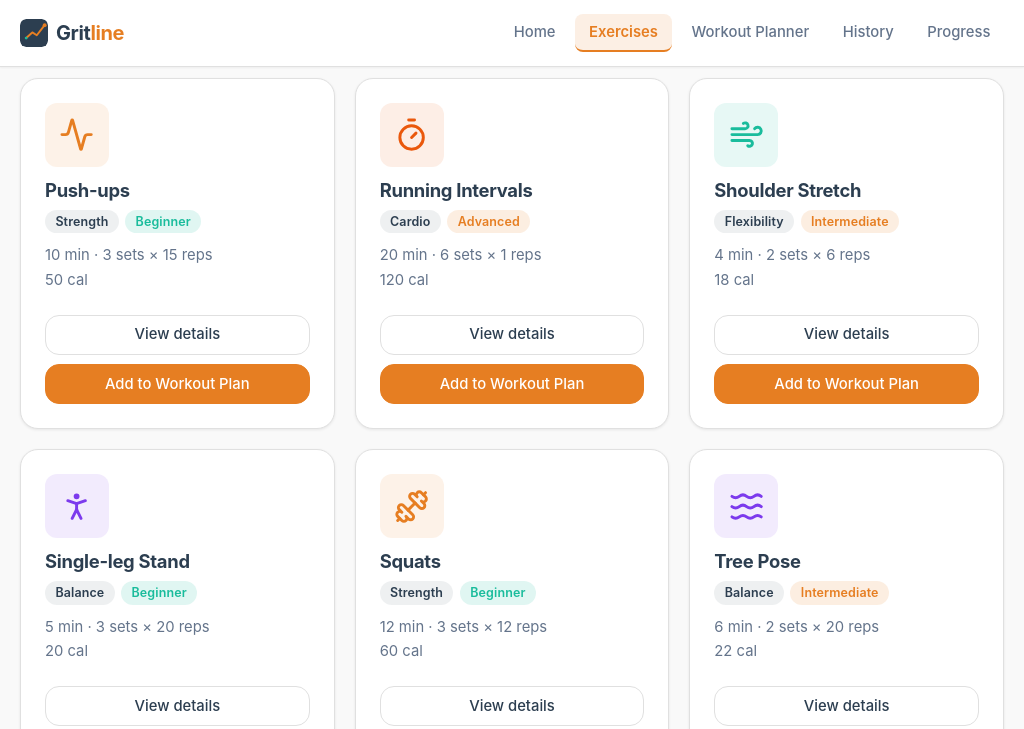
Workout flow › adds an exercise to a day and shows it after logging
This screenshot has width=1024, height=729.
(page scrolled)
Check: the heading "Push-ups" is shown, box [45,179,130,201]
Step 1. Click the button "Add to Workout Plan" below "Push-ups" → point(177, 384), box [45,364,310,404]
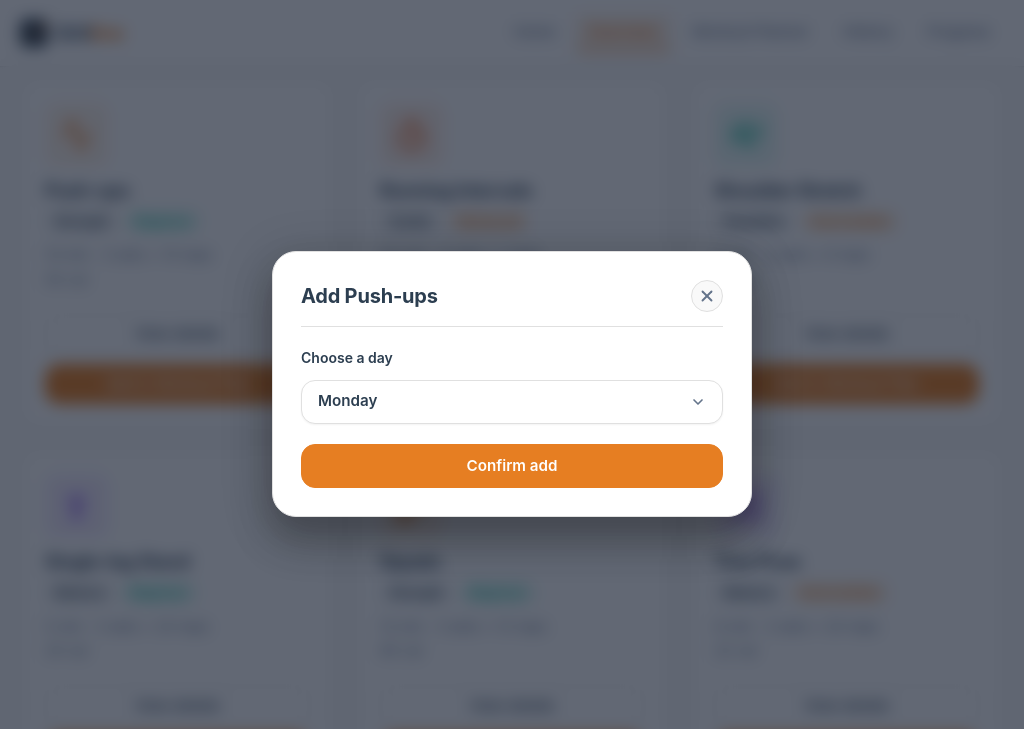
Step 2. Click the button "Confirm add" → point(512, 466), box [301,444,723,488]
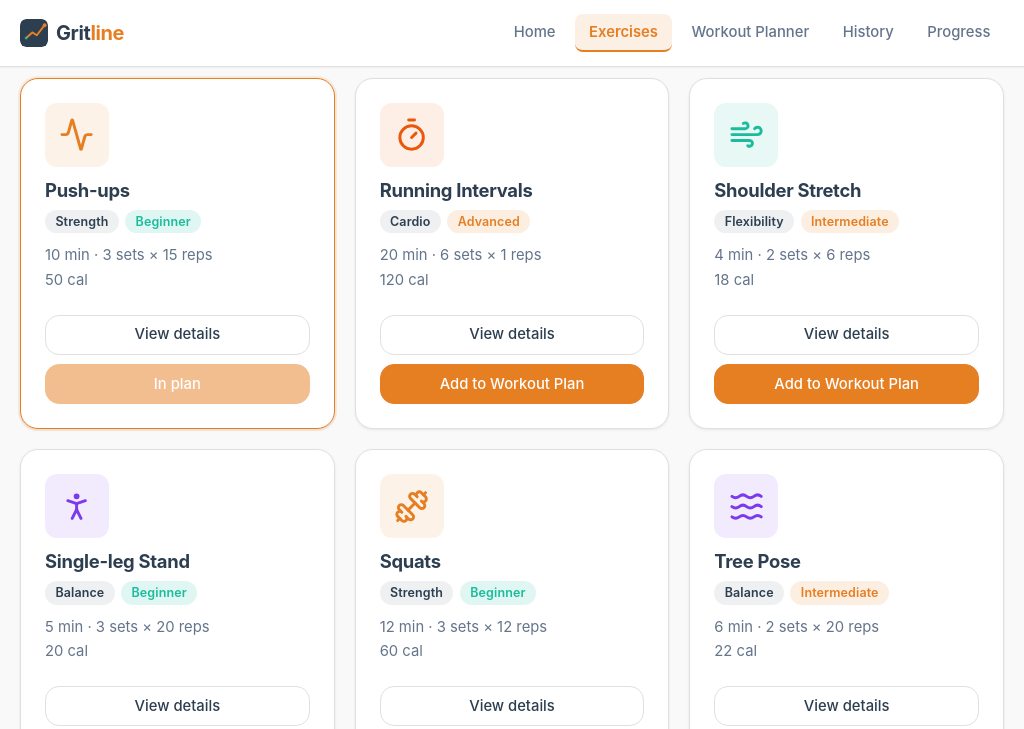
Step 3. Click the link "Workout Planner" → point(750, 32), box [692,23,809,41]
(page scrolled)
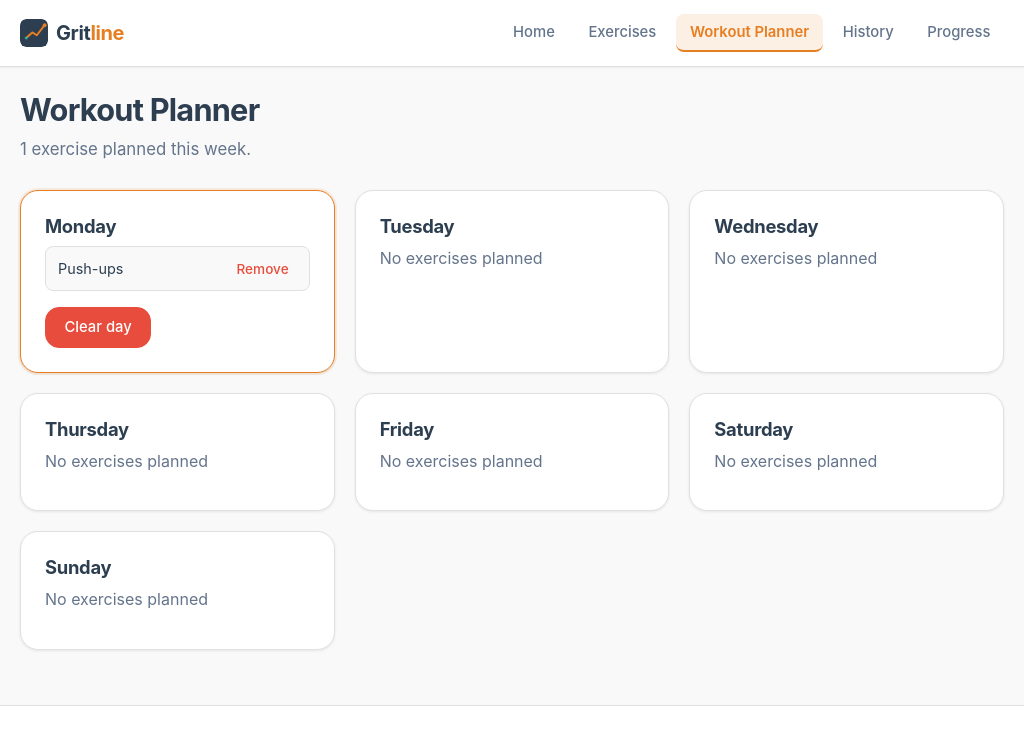
Check: the text "Push-ups" is shown, box [58,258,123,280]
Step 4. Click the link "History" → point(868, 32), box [843,23,894,41]
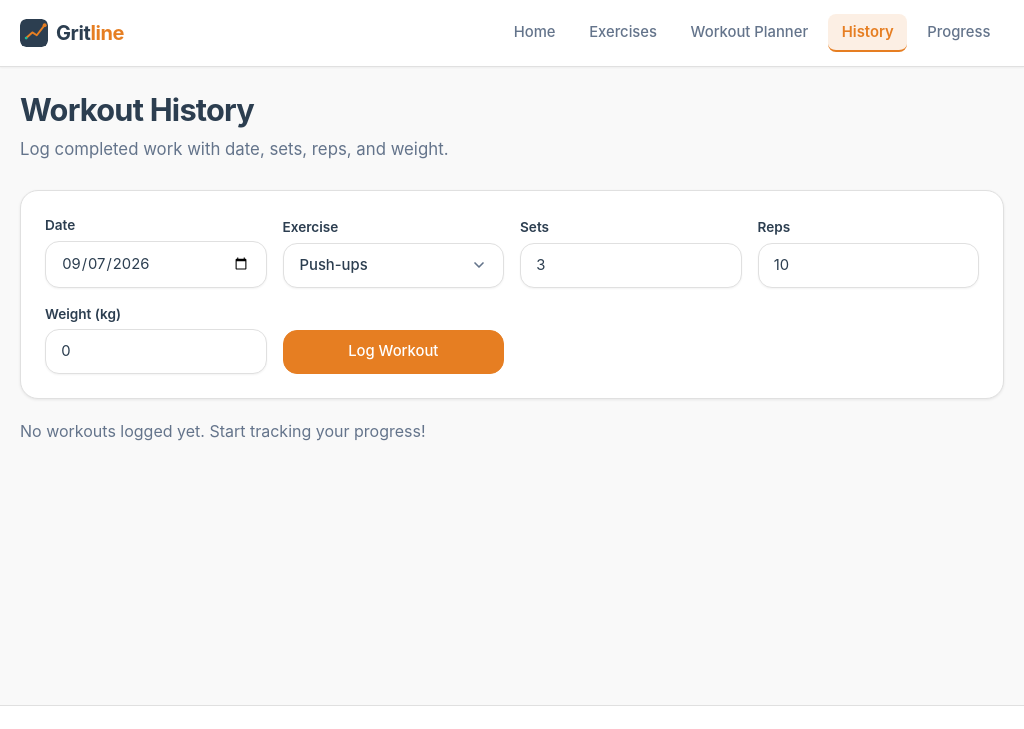
Step 5. Submit the form from the button "Log Workout", box [282,330,504,374]
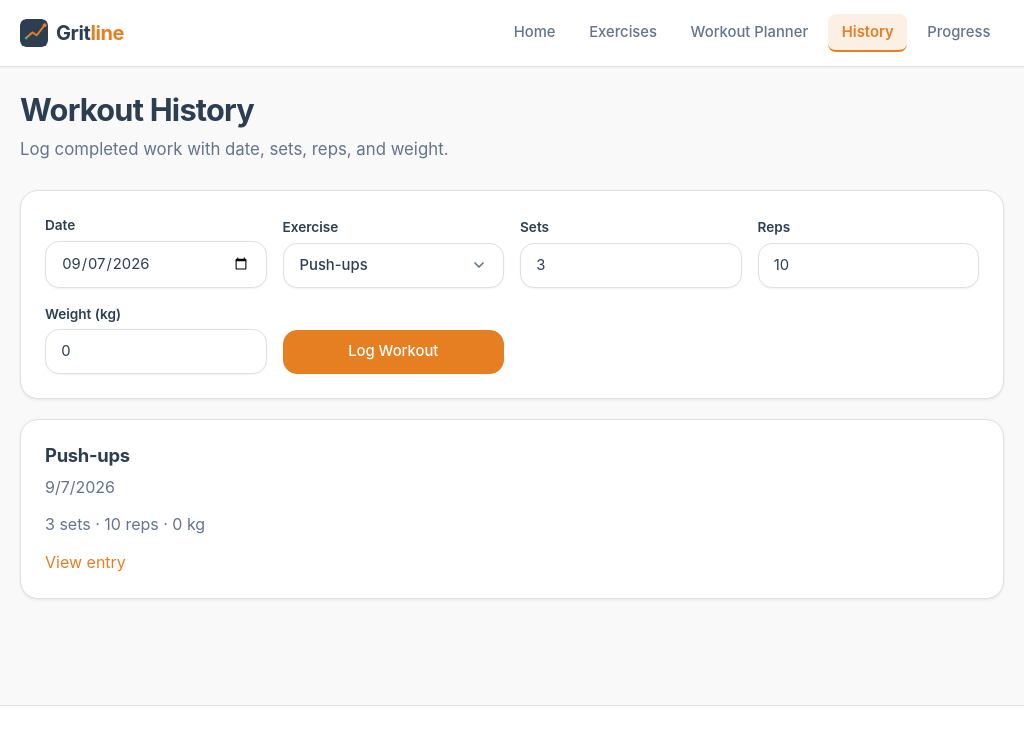
Check: the link "View entry" is shown, box [45,552,126,572]
